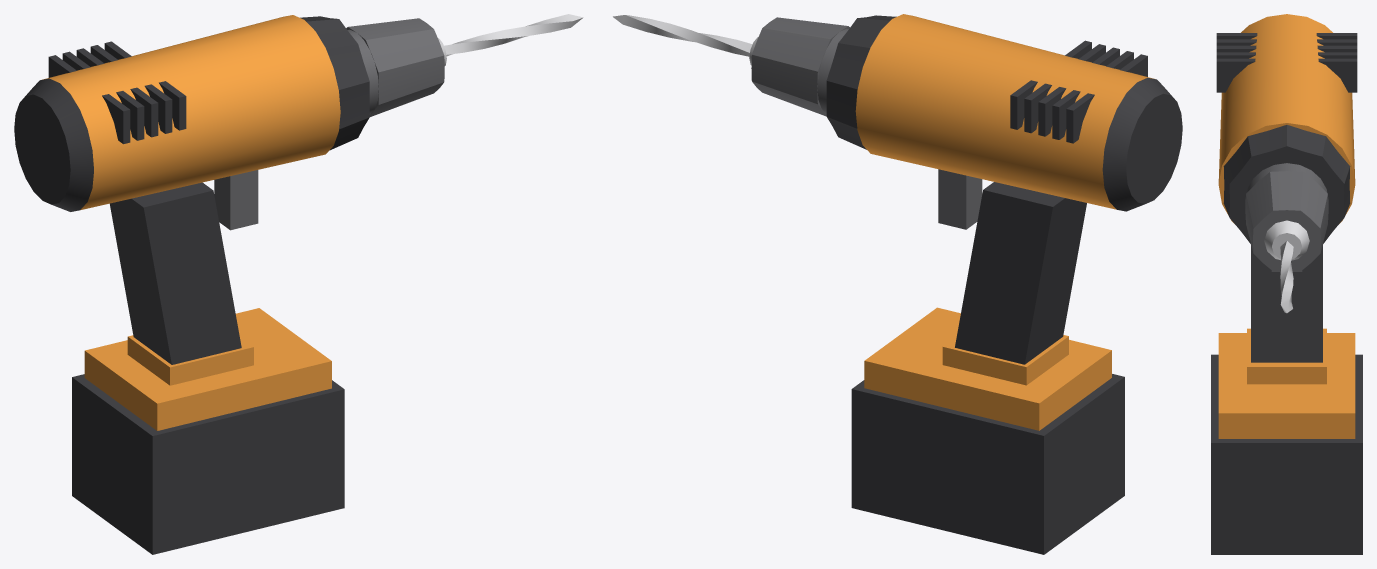
The model's file is Drill.fbx.
3 renders of one model, left to right at view 1: azimuth 30°, elevation 25°; view 2: azimuth 150°, elevation 25°; view 3: azimuth 270°, elevation 25°, orthographic. The views are drawn at different scales.
Parts seen in each view (by area): view 1: Body, Chuck, Trigger; view 2: Body, Chuck, Trigger; view 3: Body, Chuck.
Boxes of the visible parts, box(x1,y1,x2,y2) form: Body: box(14, 15, 378, 554); Chuck: box(346, 14, 583, 116); Trigger: box(214, 170, 258, 230); Body: box(817, 14, 1182, 554); Chuck: box(613, 15, 849, 116); Trigger: box(938, 169, 982, 229); Body: box(1211, 14, 1362, 554); Chuck: box(1245, 171, 1328, 313).
Bounding box in the file's own units: 0.31 × 0.251 × 0.08.
